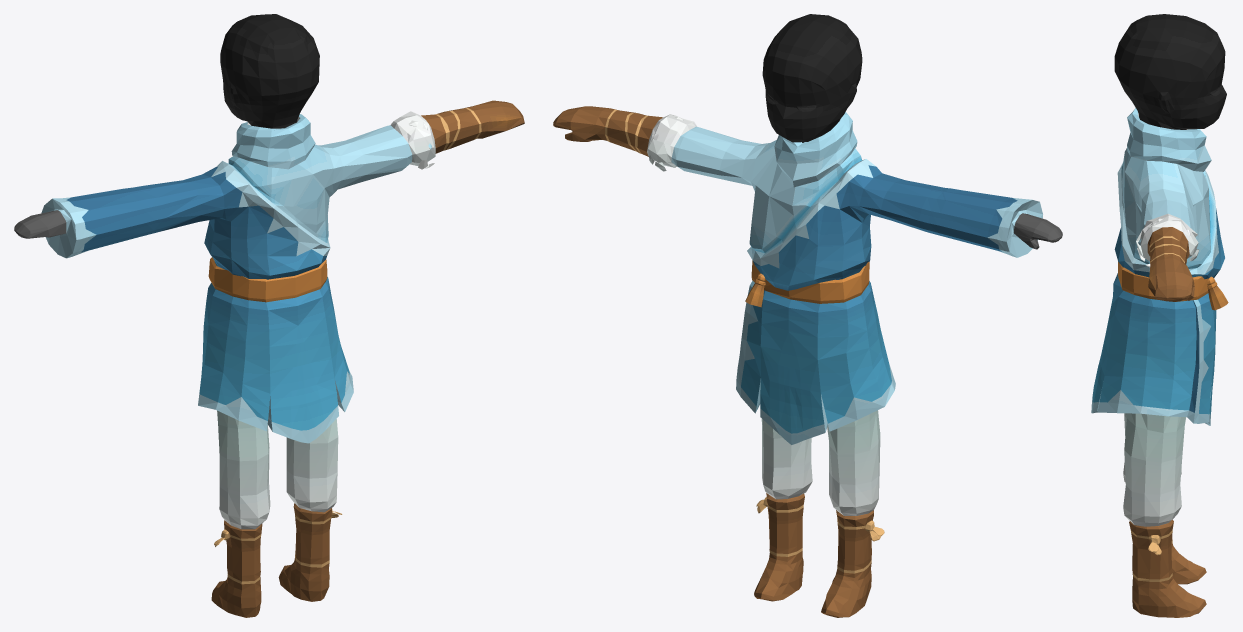
The model's file is CharSkyKid_Body_AP12BlueTunic_01.glb.
3 renders of one model, left to right at view 1: azimuth 30°, elevation 25°; view 2: azimuth 150°, elevation 25°; view 3: azimuth 270°, elevation 25°, orthographic.
Parts seen in each view (by area): view 1: CharSkyKid_Body_AP12BlueTunic_01; view 2: CharSkyKid_Body_AP12BlueTunic_01; view 3: CharSkyKid_Body_AP12BlueTunic_01.
Part boxes in pixels (x1,y1,x2,y2): CharSkyKid_Body_AP12BlueTunic_01: [14, 14, 524, 617]; CharSkyKid_Body_AP12BlueTunic_01: [553, 14, 1062, 617]; CharSkyKid_Body_AP12BlueTunic_01: [1091, 14, 1228, 617].
Bounding box in the file's own units: 13.6 × 14.92 × 3.22.
1 material, 1 textured.
